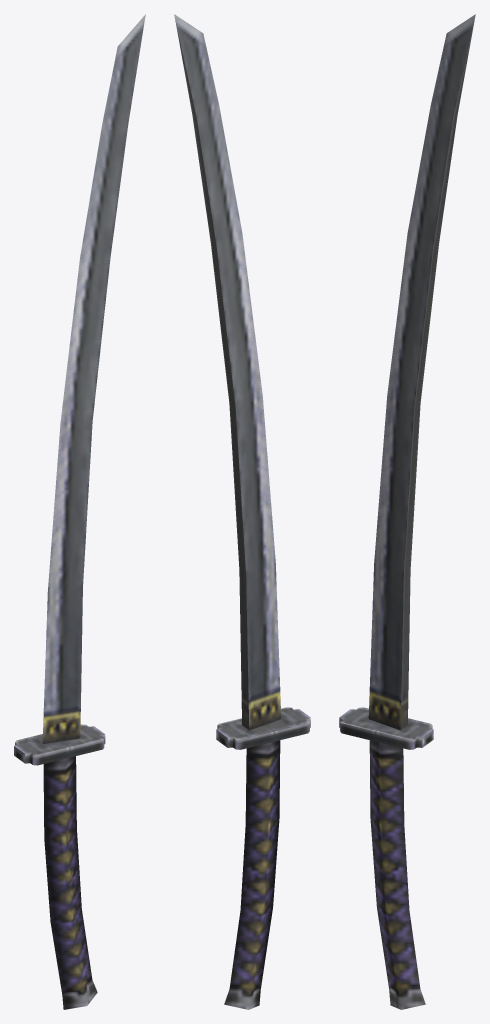
Rendered from Sword16.FBX.
The picture shows the model from 3 angles, left to right: view 1: azimuth 30°, elevation 25°; view 2: azimuth 210°, elevation 25°; view 3: azimuth 330°, elevation 25°; orthographic projection. The views are drawn at different scales.
Visible parts, largest first — view 1: Sword16; view 2: Sword16; view 3: Sword16.
Boxes of the visible parts, box(x1,y1,x2,y2) form: Sword16: box(14, 14, 145, 1009); Sword16: box(174, 14, 310, 1009); Sword16: box(339, 14, 475, 1009).
Bounding box in the file's own units: 14.61 × 108 × 4.21.
